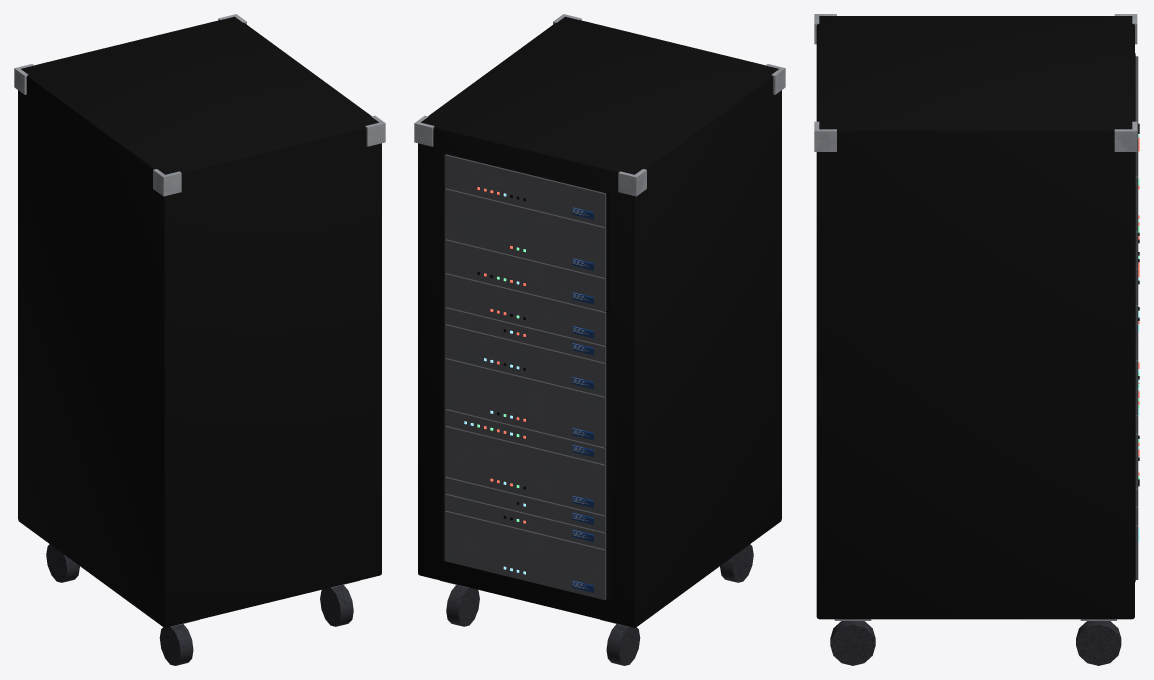
File: rack_24u.gltf
3 renders of one model, left to right at view 1: azimuth 30°, elevation 25°; view 2: azimuth 150°, elevation 25°; view 3: azimuth 270°, elevation 25°, orthographic. The views are drawn at different scales.
Visible parts, largest first — view 1: rack_24u; view 2: rack_24u; view 3: rack_24u.
Boxes of the visible parts, left/top/right/bottom form: rack_24u: left=14, top=14, right=385, bottom=665; rack_24u: left=414, top=14, right=785, bottom=665; rack_24u: left=814, top=14, right=1139, bottom=665.
Size of the model in its own units: 0.61 by 1.33 by 0.715.
10 materials, 7 textured.
